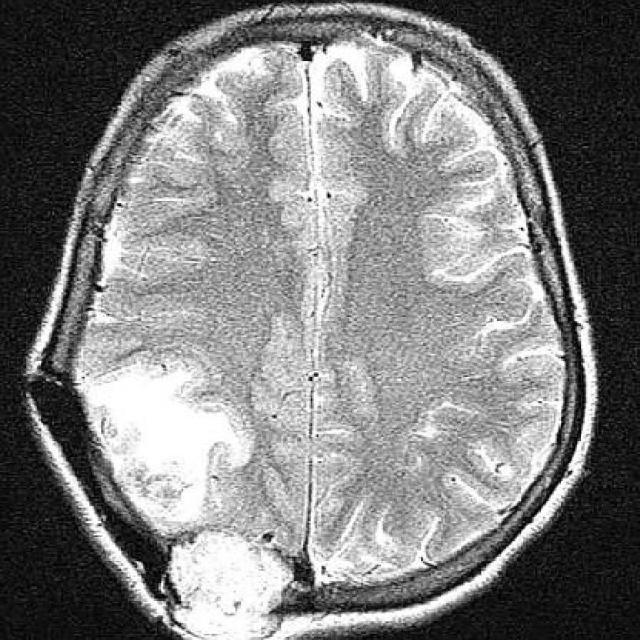Brain-Tumor: (63, 348, 275, 534), (149, 540, 303, 640)
